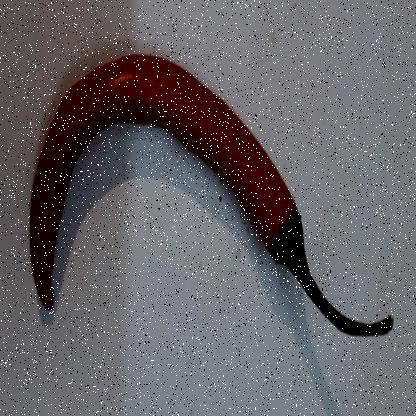chili: (28, 51, 395, 355)
